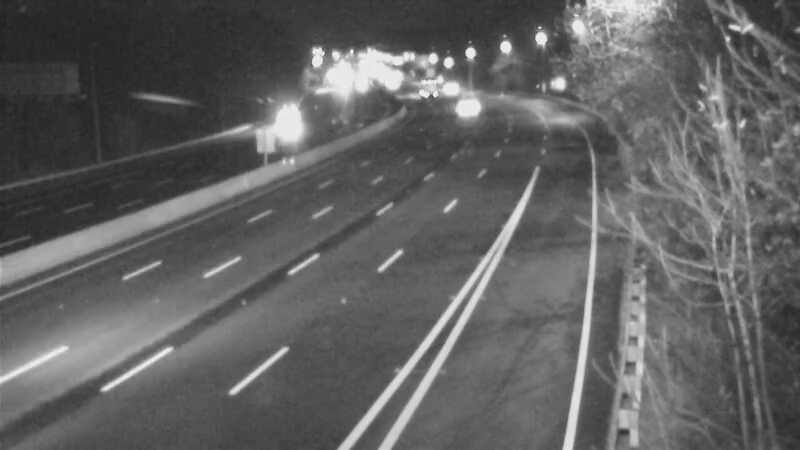vehicle: (403, 65, 453, 115), (423, 61, 473, 111), (438, 79, 488, 129), (259, 109, 309, 159)
